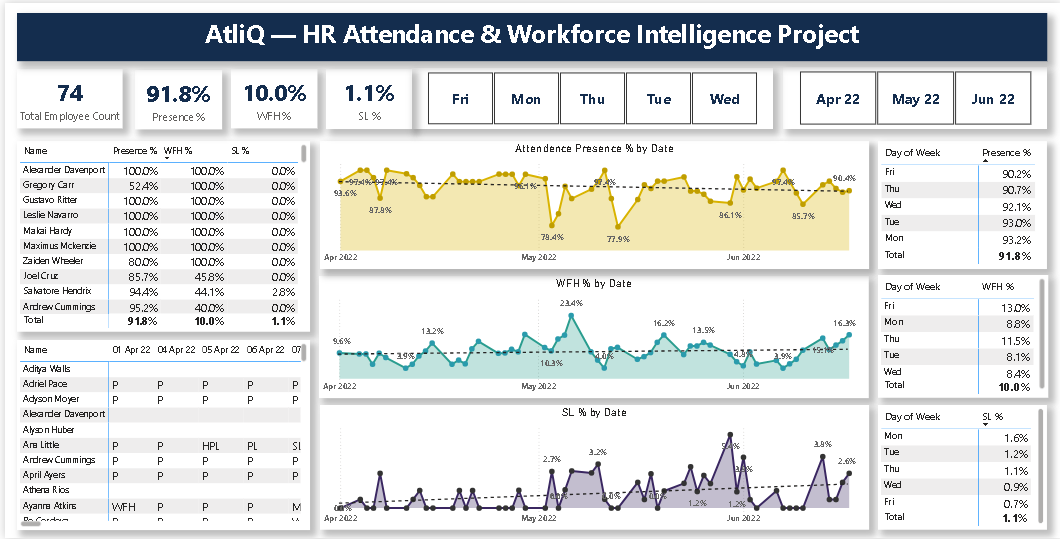

This screenshot's page, from the dashboard's own definition file:
{"tool":"powerbi","page":{"name":"dashboard","canvas":[1600,810],"ordinal":0},"visuals":[{"type":"pivotTable","fields":{"Rows":["Attendance Final Data.Name"],"Values":["Key Measures.Presence %","Key Measures.WFH %","Key Measures.SL %"]},"box":[18.2,209.1,443.9,289.4],"z":0},{"type":"pivotTable","fields":{"Columns":["Attendance Final Data.Date"],"Rows":["Attendance Final Data.Name"],"Values":["Min(Attendance Final Data.Value)"]},"box":[18.2,510.6,443.9,287.9],"z":1000},{"type":"areaChart","fields":{"Category":["Attendance Final Data.Date"],"Y":["Key Measures.WFH %"]},"box":[475.8,413.6,833.3,184.8],"z":2000},{"type":"areaChart","title":"Attendence Presence % by Date","fields":{"Category":["Attendance Final Data.Date"],"Y":["Key Measures.Presence %"]},"box":[477.3,209.1,831.8,193.9],"z":3000},{"type":"areaChart","fields":{"Category":["Attendance Final Data.Date"],"Y":["Key Measures.SL %"]},"box":[477.3,609.1,831.8,189.4],"z":4000},{"type":"pivotTable","fields":{"Rows":["Attendance Final Data.Day of Week"],"Values":["Key Measures.Presence %"]},"box":[1322.7,209.1,256.1,193.9],"z":5000},{"type":"pivotTable","fields":{"Rows":["Attendance Final Data.Day of Week"],"Values":["Key Measures.WFH %"]},"box":[1322.7,412.1,257.6,186.4],"z":6000},{"type":"pivotTable","fields":{"Rows":["Attendance Final Data.Day of Week"],"Values":["Key Measures.SL %"]},"box":[1322.7,609.1,256.1,189.4],"z":7000},{"type":"slicer","fields":{"Values":["Attendance Final Data.Month"]},"box":[1178.8,97,400,93.9],"z":8000},{"type":"card","fields":{"Values":["Key Measures.Presence %"]},"box":[197,102,131.8,90],"z":9000},{"type":"card","fields":{"Values":["Key Measures.WFH %"]},"box":[342.4,100.5,131,90],"z":10000},{"type":"card","fields":{"Values":["Key Measures.SL %"]},"box":[486.4,100,130.3,90.9],"z":11000},{"type":"card","fields":{"Values":["Key Measures.Total Employee Count"]},"box":[18.2,100.5,160,90],"z":12000},{"type":"slicer","fields":{"Values":["Attendance Final Data.Day of Week"]},"box":[615.2,98.5,548.5,92.4],"z":13000},{"type":"textbox","box":[18.2,15.2,1560.6,72.7],"z":14000}]}

Visuals, with their boxes in screenshot pixels (x1, y1, x2, y2), scaled from the page's 1600x810 canvas onto the 1060x539 screenshot:
pivotTable - Attendance Final Data.Name x Key Measures.Presence %: 12/139/306/332
pivotTable - Attendance Final Data.Date x Attendance Final Data.Name: 12/340/306/531
areaChart - Attendance Final Data.Date x Key Measures.WFH %: 315/275/867/398
"Attendence Presence % by Date" areaChart: 316/139/867/268
areaChart - Attendance Final Data.Date x Key Measures.SL %: 316/405/867/531
pivotTable - Attendance Final Data.Day of Week x Key Measures.Presence %: 876/139/1046/268
pivotTable - Attendance Final Data.Day of Week x Key Measures.WFH %: 876/274/1047/398
pivotTable - Attendance Final Data.Day of Week x Key Measures.SL %: 876/405/1046/531
slicer - Attendance Final Data.Month: 781/65/1046/127
card - Key Measures.Presence %: 131/68/218/128
card - Key Measures.WFH %: 227/67/314/127
card - Key Measures.SL %: 322/67/409/127
card - Key Measures.Total Employee Count: 12/67/118/127
slicer - Attendance Final Data.Day of Week: 408/66/771/127
textbox: 12/10/1046/58
